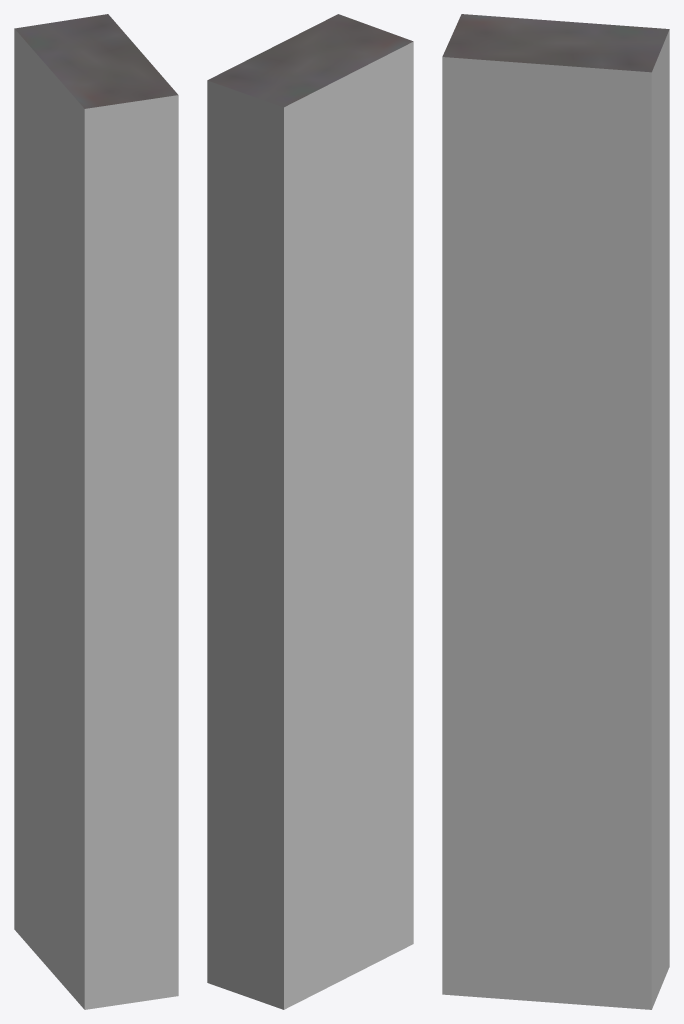
The model's file is DEBW_0010007THXk.gltf.
The picture shows the model from 3 angles, left to right: view 1: azimuth 30°, elevation 25°; view 2: azimuth 150°, elevation 25°; view 3: azimuth 270°, elevation 25°; orthographic projection. The views are drawn at different scales.
Parts seen in each view (by area): view 1: Z_UP; view 2: Z_UP; view 3: Z_UP.
Part boxes in pixels (left/top/right/bottom): Z_UP: left=14, top=14, right=178, bottom=1009; Z_UP: left=207, top=14, right=413, bottom=1009; Z_UP: left=442, top=14, right=669, bottom=1009.
Bounding box in the file's own units: 2.01 × 15.06 × 3.31.
2 materials, 1 textured.
